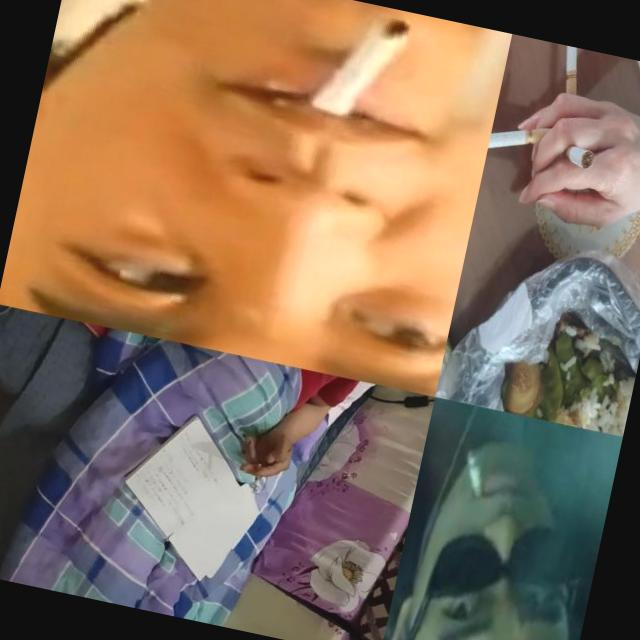cigarette: (299, 2, 413, 140), (484, 112, 558, 174), (542, 42, 588, 110), (457, 450, 488, 500), (562, 142, 598, 170), (250, 462, 264, 493)
